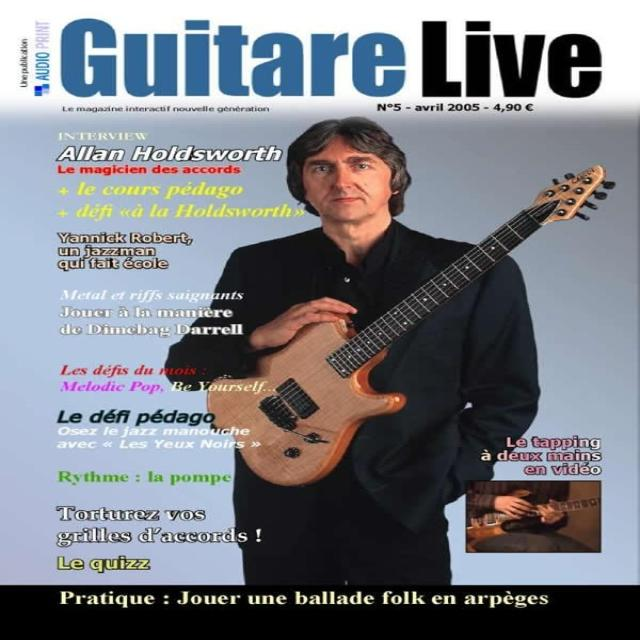guitar: (206, 164, 632, 489), (461, 484, 615, 546)
